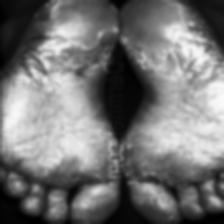Non-Cancerous Skin Condition: (122, 26, 224, 214), (0, 100, 114, 224), (30, 16, 104, 84)
